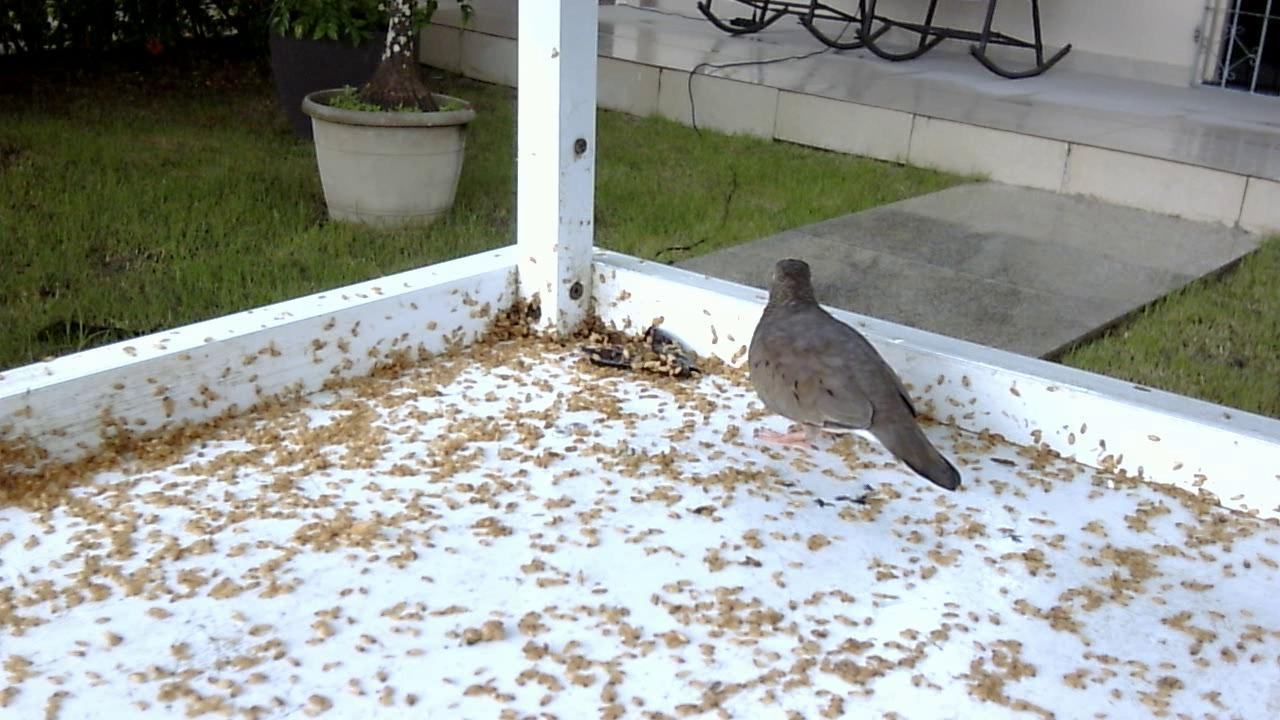rolinha: (728, 244, 974, 504)
